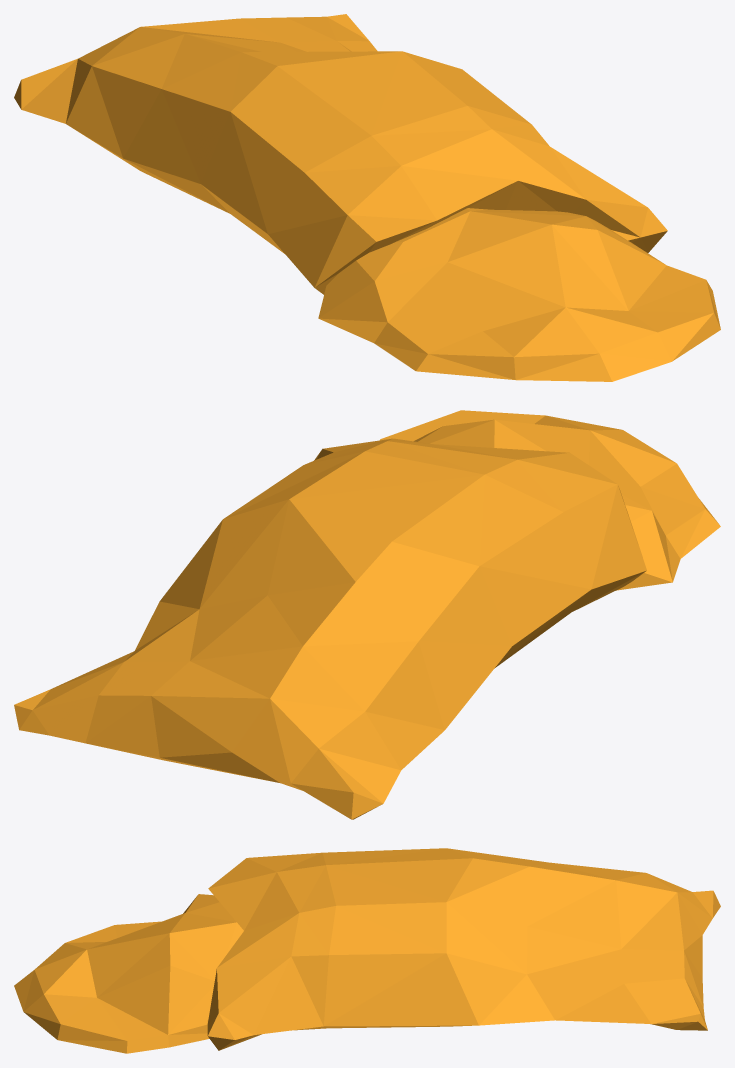
The model's file is SM_Bag_Lying_Spilled_A_Farm.fbx.
The picture shows the model from 3 angles, top to bottom: view 1: azimuth 30°, elevation 25°; view 2: azimuth 150°, elevation 25°; view 3: azimuth 270°, elevation 25°; orthographic projection. The views are drawn at different scales.
Visible parts, largest first — view 1: bag-lying-spilled-a-farm; view 2: bag-lying-spilled-a-farm; view 3: bag-lying-spilled-a-farm.
Part boxes in pixels (x1,y1,x2,y2): bag-lying-spilled-a-farm: [14, 14, 720, 381]; bag-lying-spilled-a-farm: [14, 410, 720, 819]; bag-lying-spilled-a-farm: [14, 848, 720, 1053].
Bounding box in the file's own units: 0.617 × 0.2282 × 1.29.
